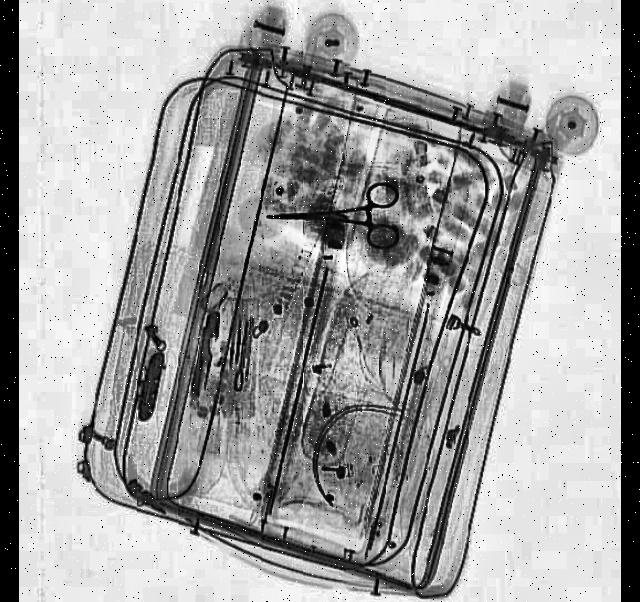Scissors: (266, 183, 398, 251)
